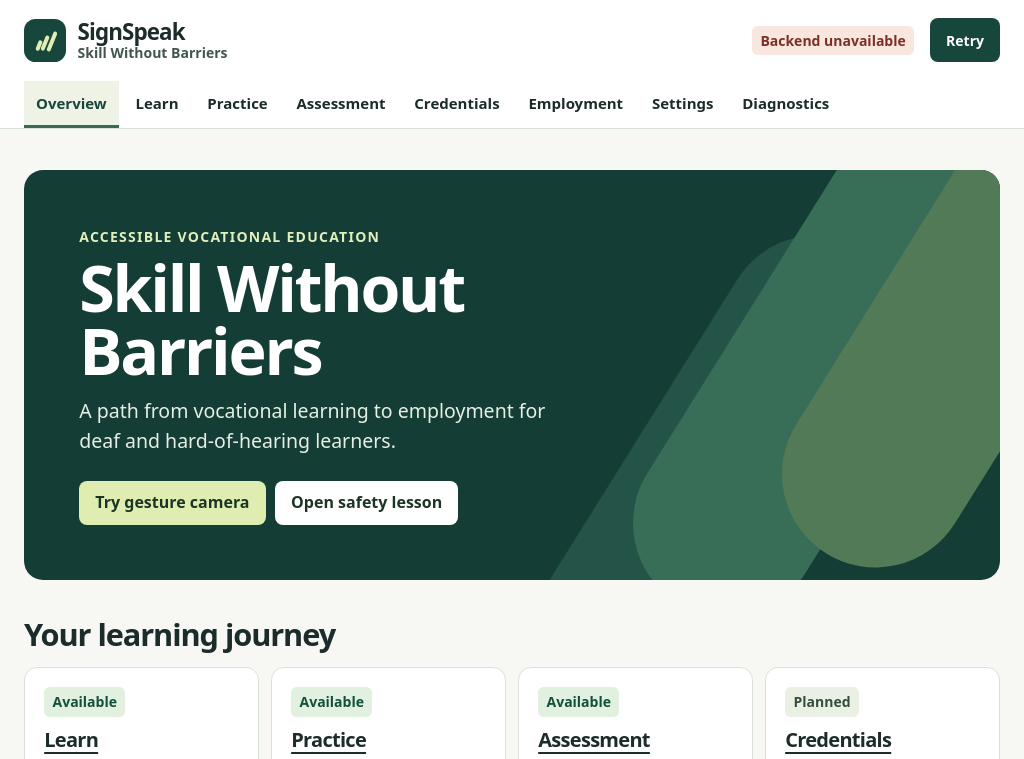
Scenario: reports loading, fails malformed responses safely and recovers on retry
Later steps or results of the test are not shown.
expect the message reads "Backend unavailable": met, box [760,30,906,50]
What coordinates should you click on to do the following:
click the button "Retry"
I would click on:
 (965, 40)
Its box is [930,18,1000,62].
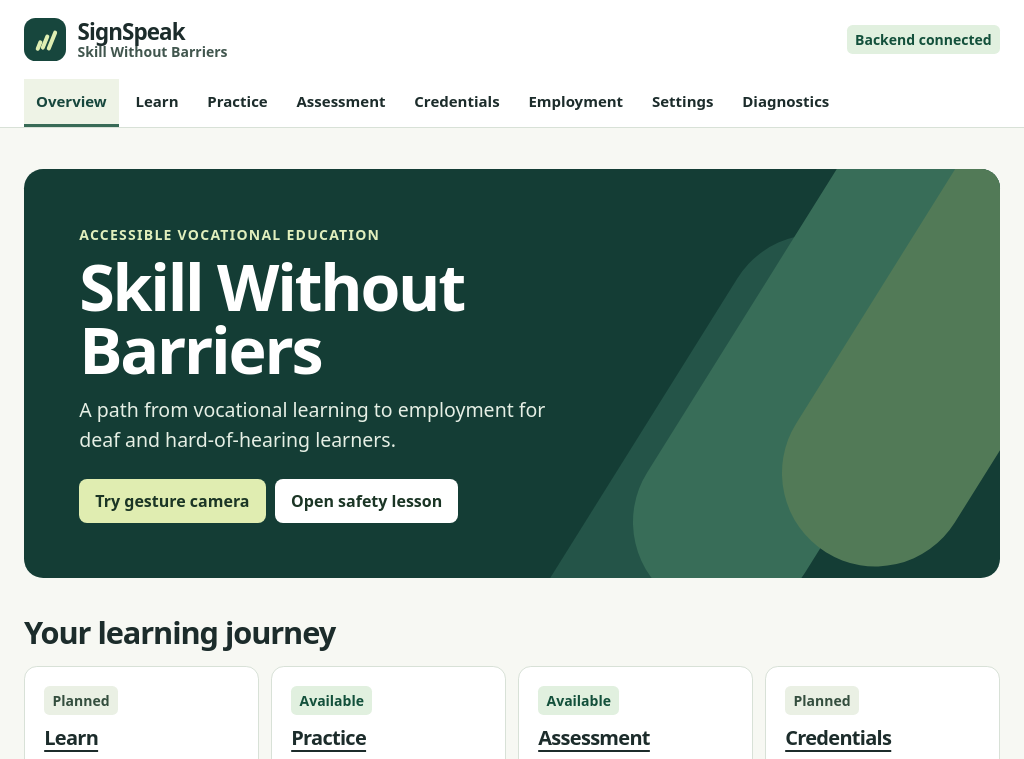
expect the text "Backend connected" is shown: met, box [847,25,1000,54]
